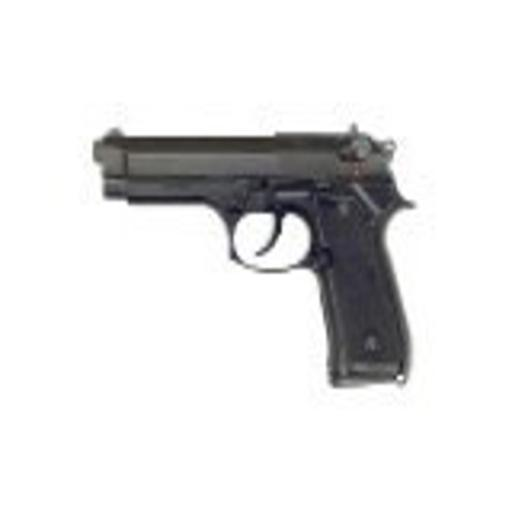Handgun: (88, 127, 418, 391)
